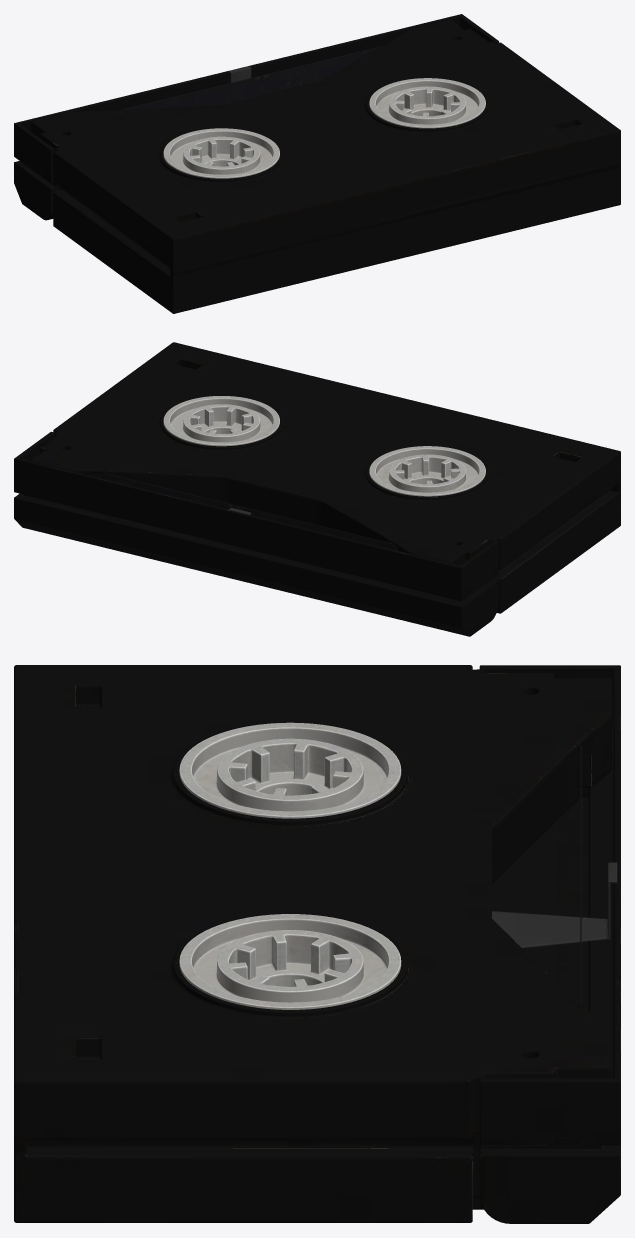
The model's file is betamax.glb.
3 views of the same model, one above another, from view 1: azimuth 30°, elevation 25°; view 2: azimuth 150°, elevation 25°; view 3: azimuth 270°, elevation 25° (orthographic). The views are drawn at different scales.
Visible parts, largest first — view 1: tapeCentre; view 2: tapeCentre; view 3: tapeCentre.
Boxes of the visible parts, box(x1,y1,x2,y2) form: tapeCentre: box(14, 14, 620, 313); tapeCentre: box(14, 342, 620, 636); tapeCentre: box(14, 665, 620, 1223).
Size of the model in its own units: 0.156 by 0.0264 by 0.0961.
1 material, 1 textured.
